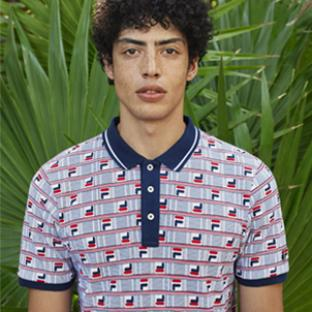Human: (18, 0, 287, 311)
